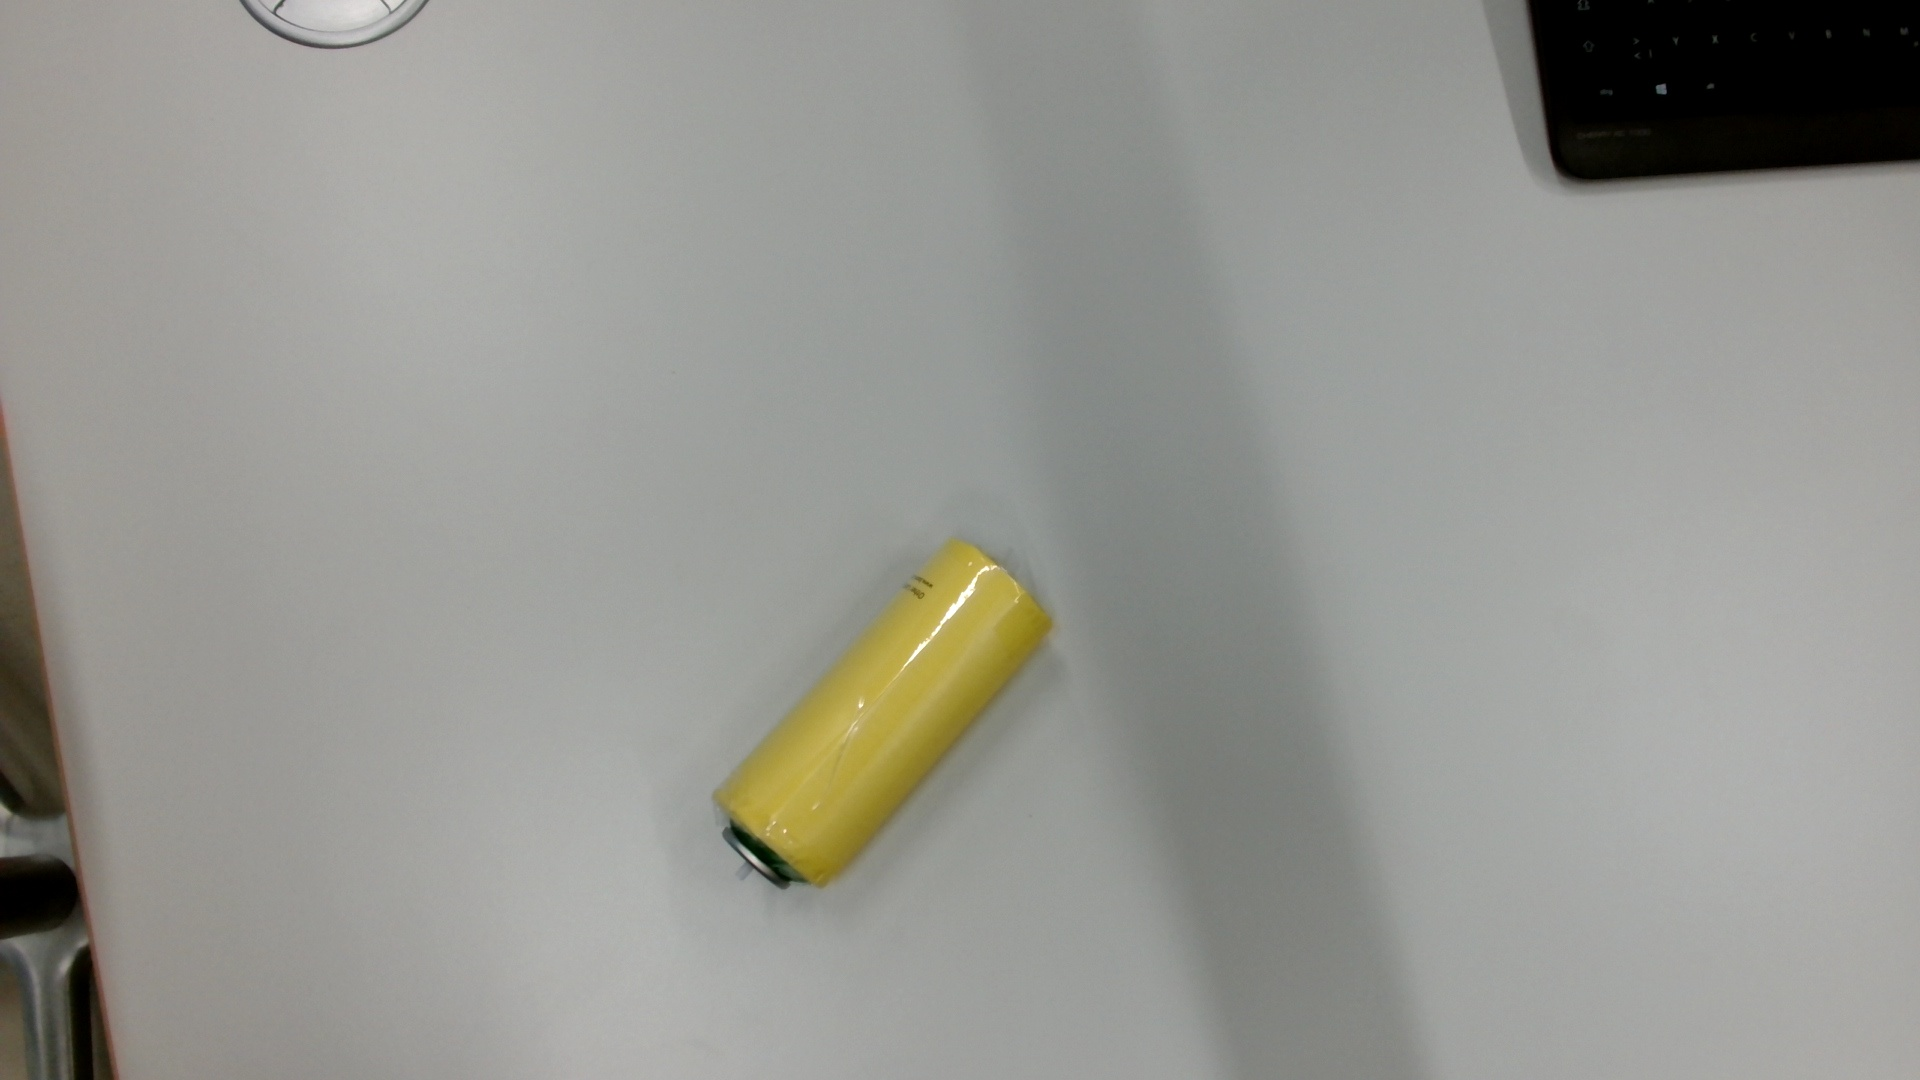Cylinder: (700, 524, 1065, 911)
